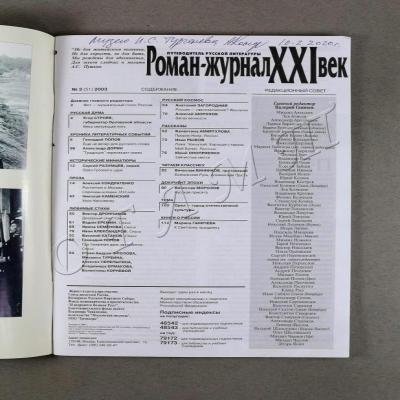rare_books: (0, 25, 352, 356)
